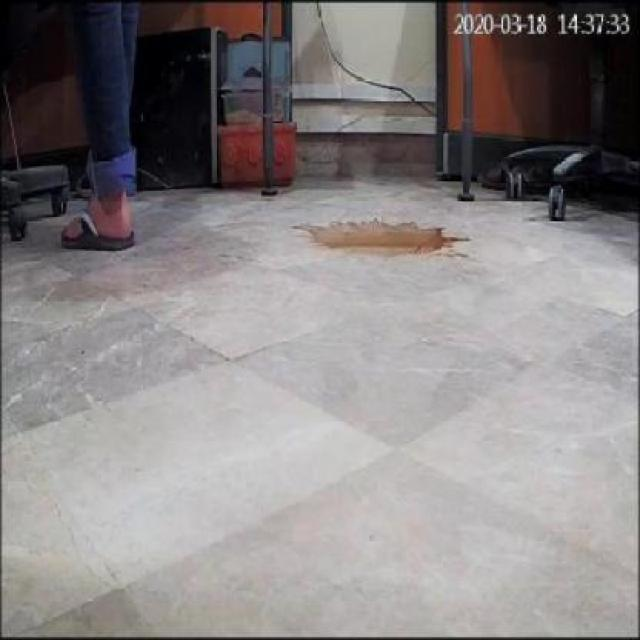spillage: (312, 223, 469, 257)
